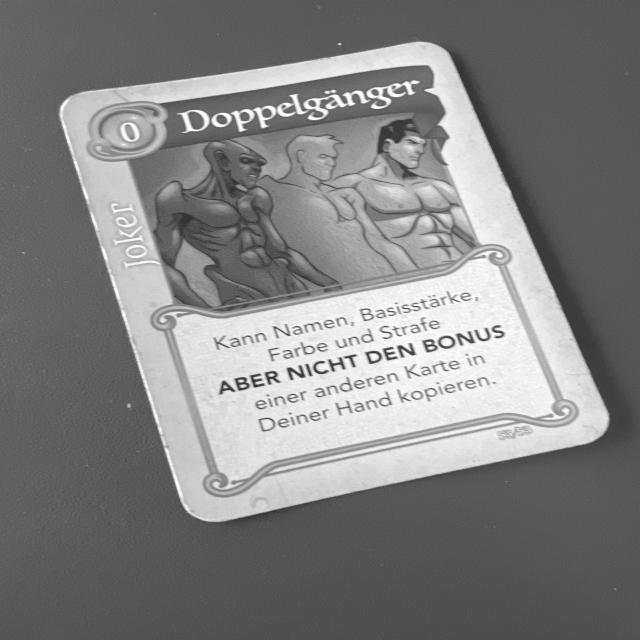Doppelganger: (48, 36, 624, 532)
